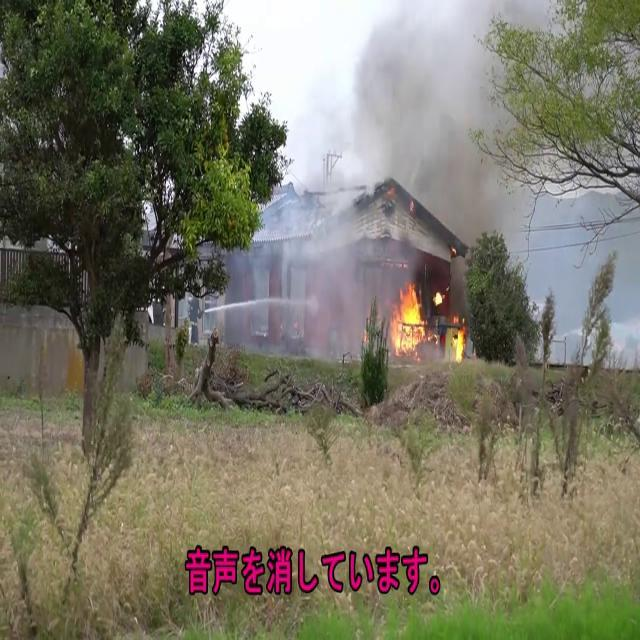Fire: (387, 278, 429, 356), (446, 314, 468, 364)
Smoke: (273, 0, 521, 275)
